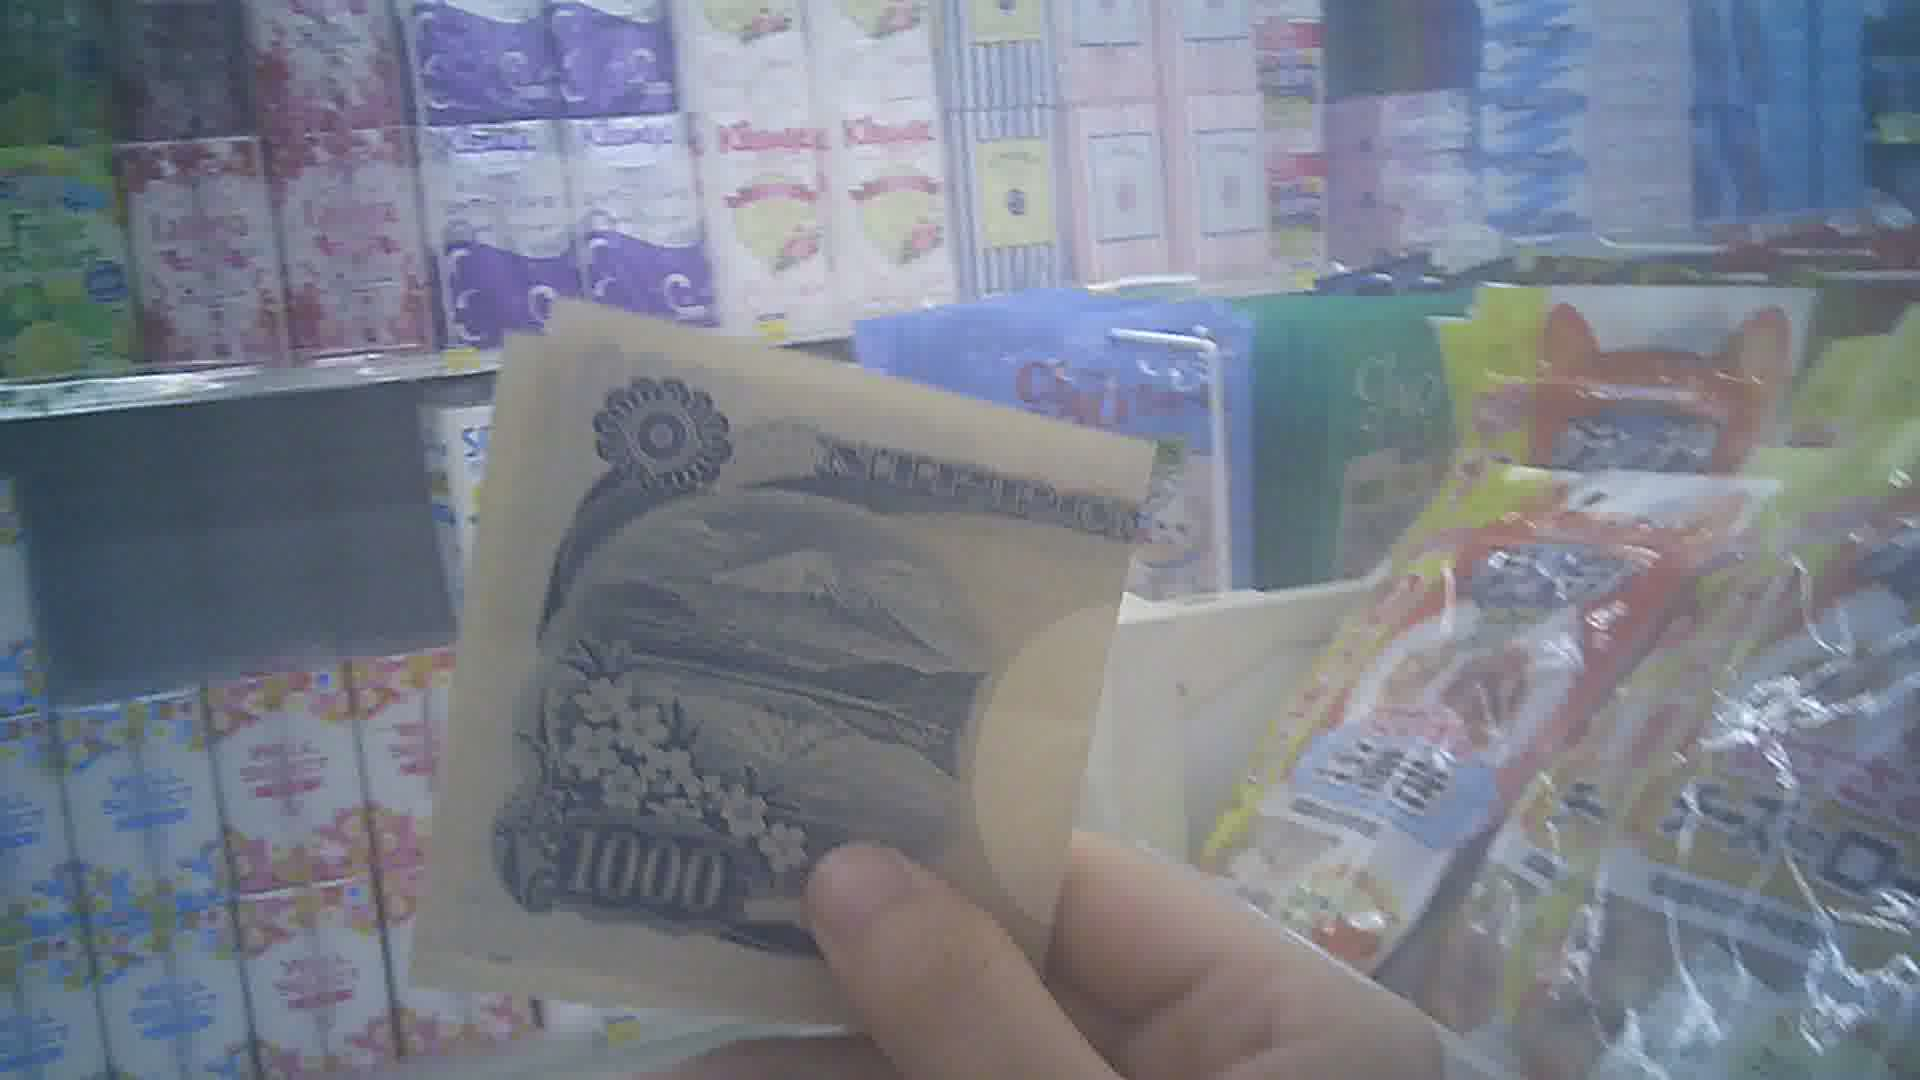1,000 Yen: (435, 305, 1145, 1011)
